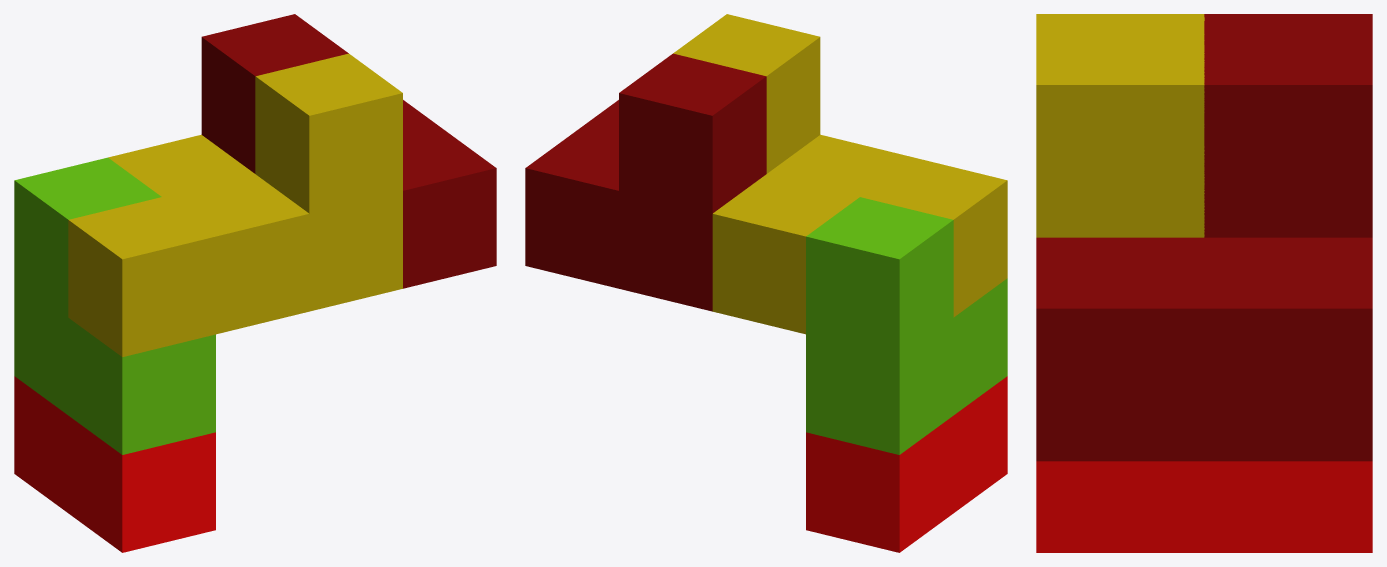
The picture shows the model from 3 angles, left to right: view 1: azimuth 30°, elevation 25°; view 2: azimuth 150°, elevation 25°; view 3: azimuth 270°, elevation 25°; orthographic projection. The views are drawn at different scales.
Visible parts, largest first — view 1: mergedBlocks(Clone); view 2: mergedBlocks(Clone); view 3: mergedBlocks(Clone).
Boxes of the visible parts, x1,y1,x2,y2 form: mergedBlocks(Clone): (14, 14, 496, 552); mergedBlocks(Clone): (525, 14, 1007, 552); mergedBlocks(Clone): (1036, 14, 1372, 552).
Bounding box in the file's own units: 4 × 4 × 2.
Materials: 4 (4 with a texture image).
